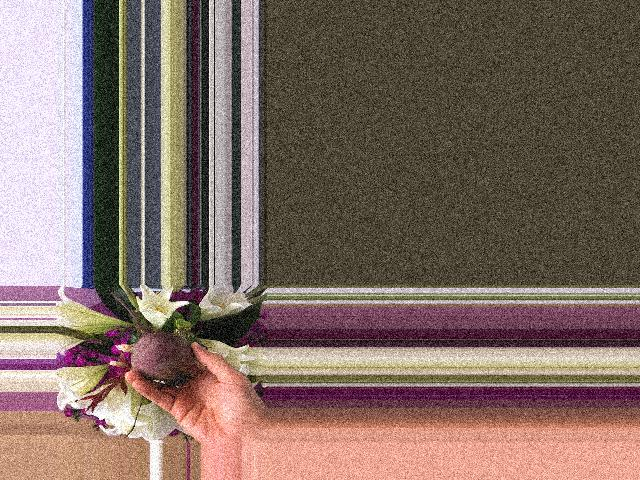beet: (106, 288, 193, 387)
